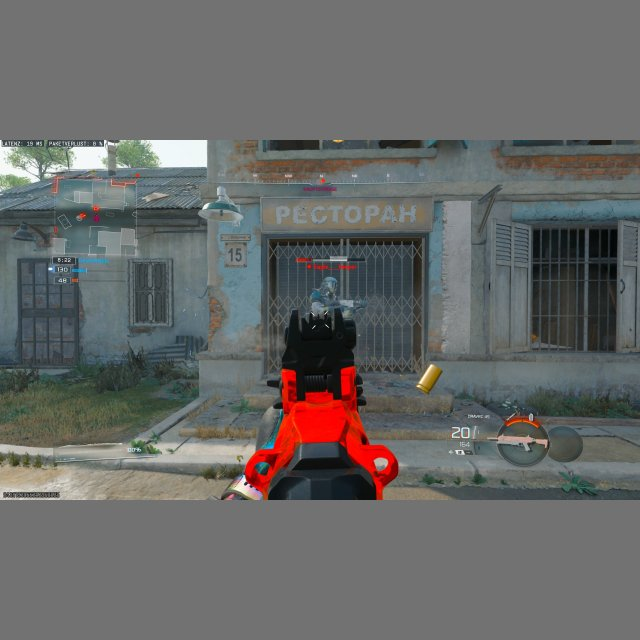head: (321, 276, 338, 296)
player: (311, 276, 353, 318)
